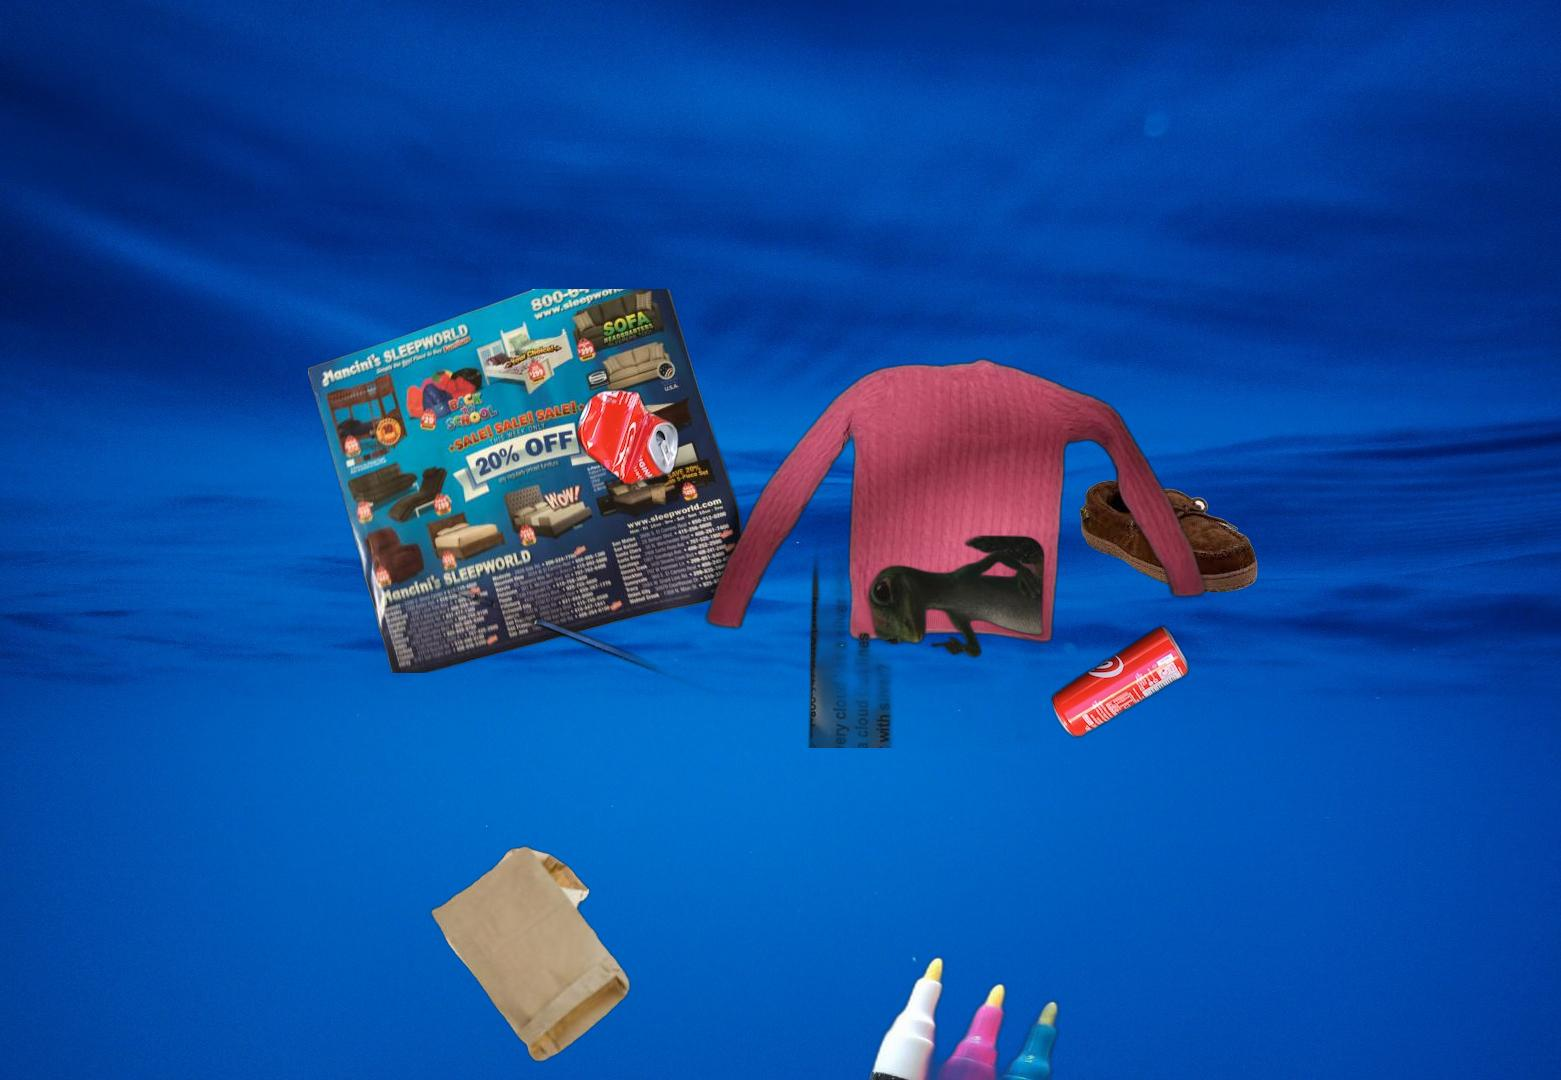clothes: (701, 356, 1210, 647)
metal-cans: (383, 383, 743, 716), (1049, 620, 1193, 744)
paper: (308, 290, 758, 673), (762, 483, 1094, 748)
paper-bag: (429, 843, 633, 1065)
penholder: (762, 908, 1116, 1080)
shoes: (1077, 478, 1261, 595)
